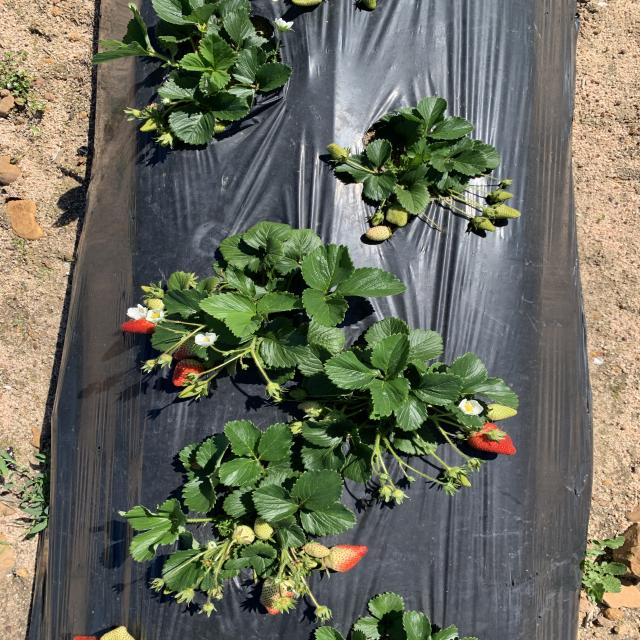unripe: (466, 424, 520, 458), (170, 358, 205, 387), (119, 317, 163, 335)
